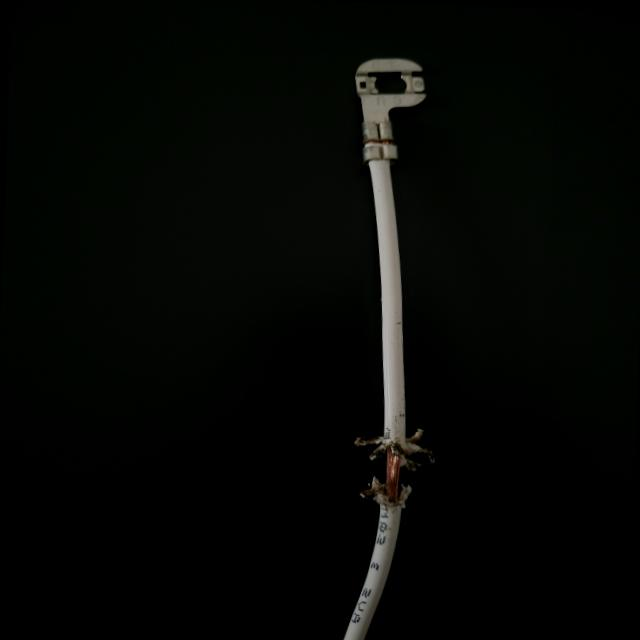defect: (257, 333, 482, 574)
